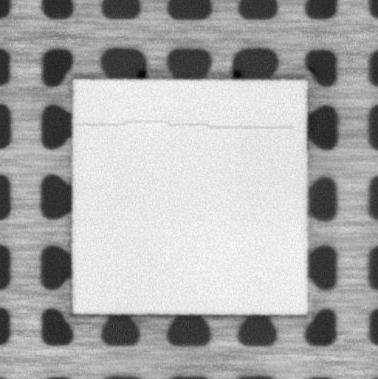DIE_CRACK: (79, 115, 295, 133)
